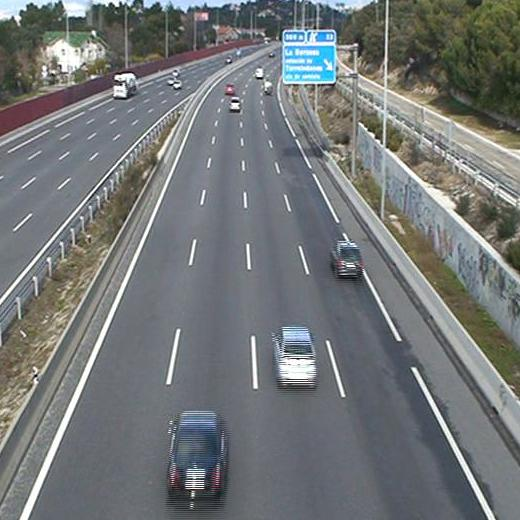car: (166, 410, 227, 502), (271, 324, 320, 387), (329, 240, 363, 279), (229, 98, 240, 113), (225, 82, 234, 97)
